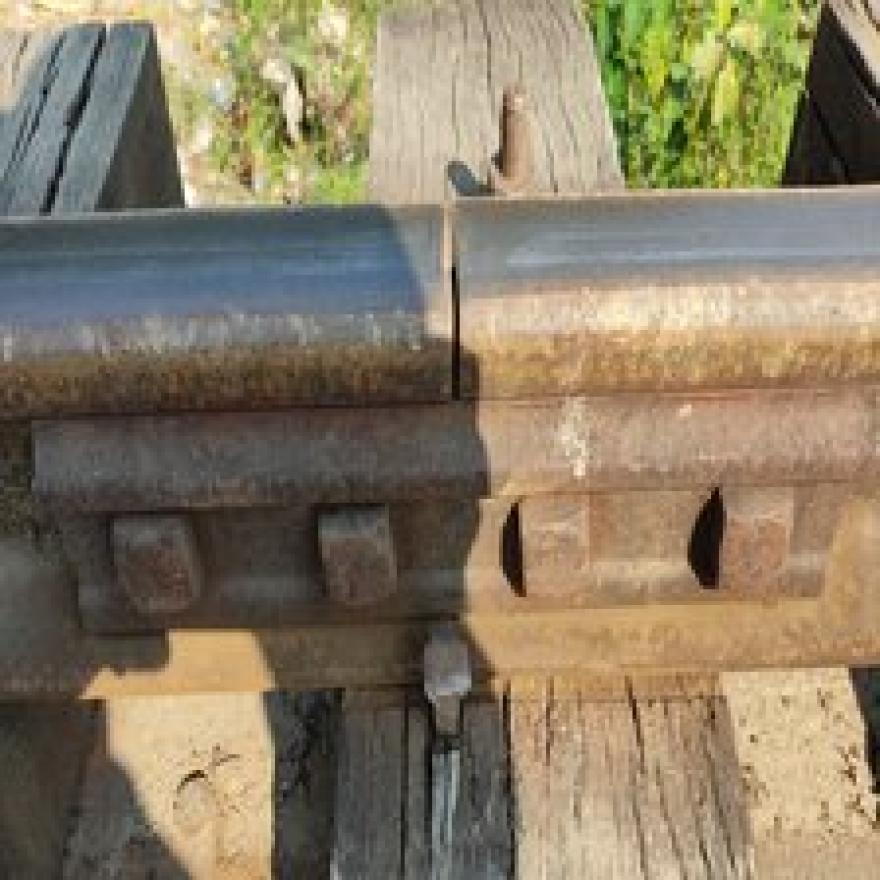railway-gap: (324, 192, 593, 426)
